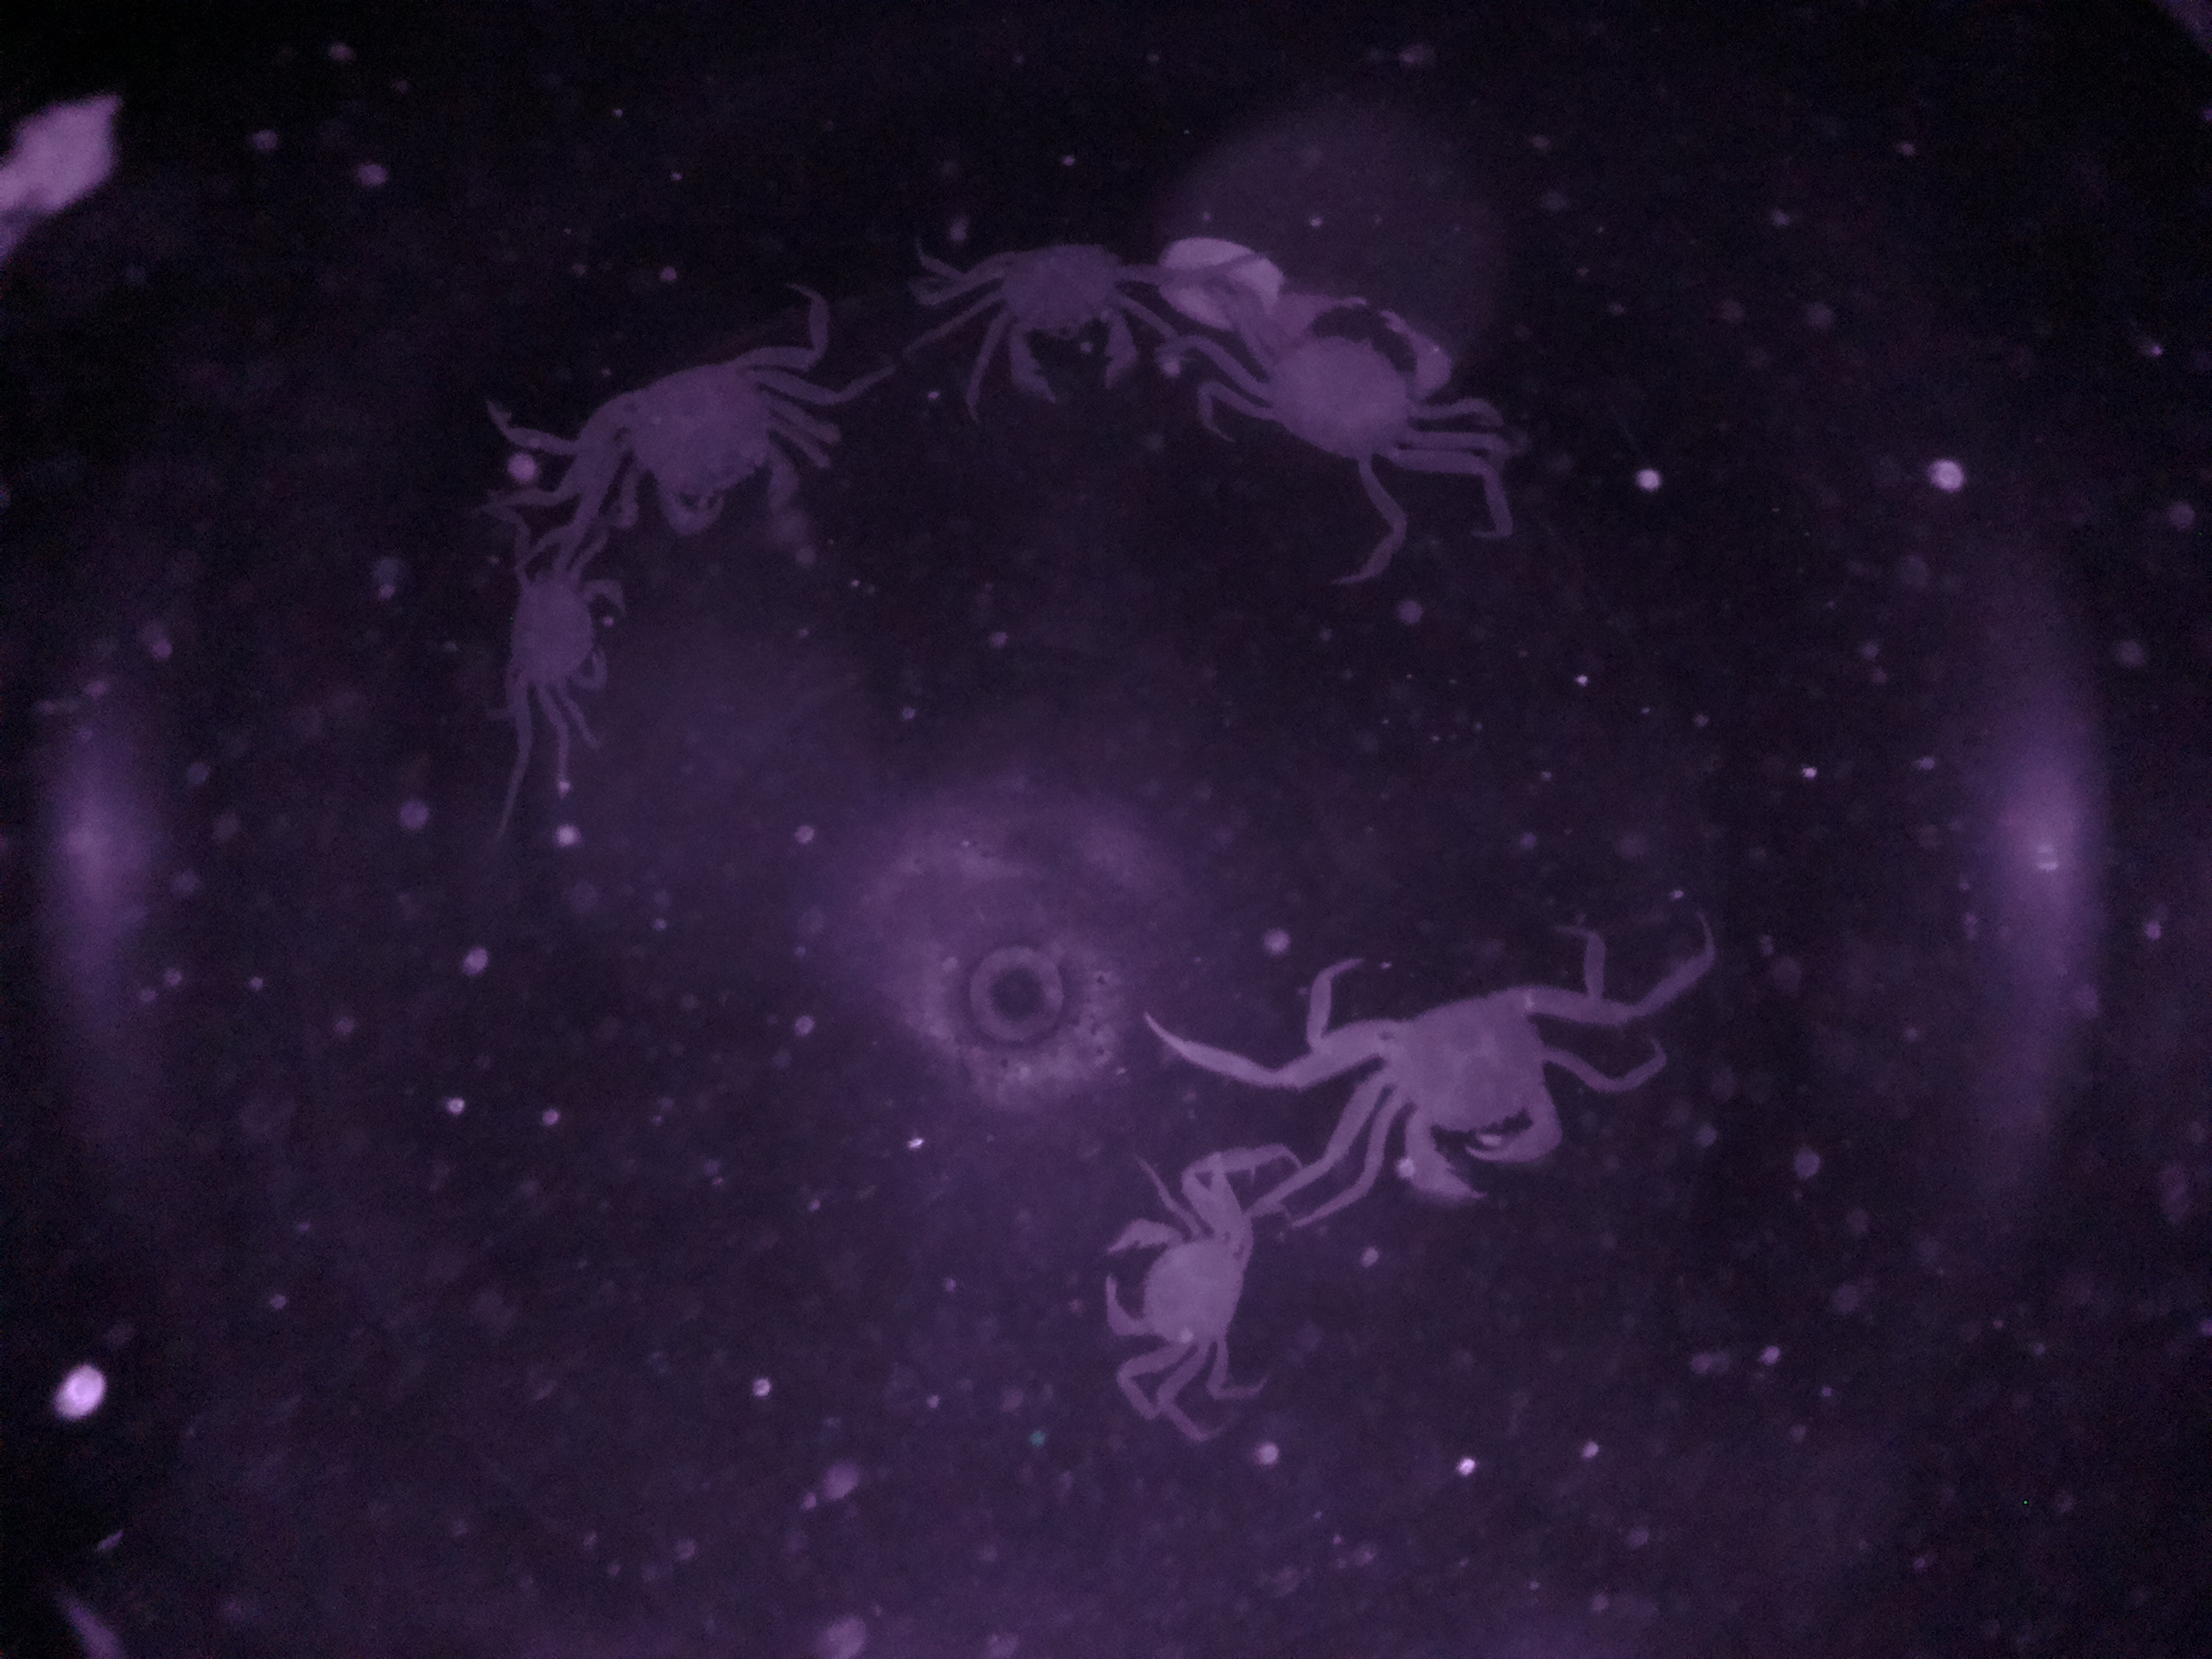Crab: (1275, 955, 1649, 1225), (1188, 265, 1461, 504), (557, 335, 831, 552), (1061, 1162, 1270, 1401), (951, 213, 1177, 427), (482, 523, 660, 739)
